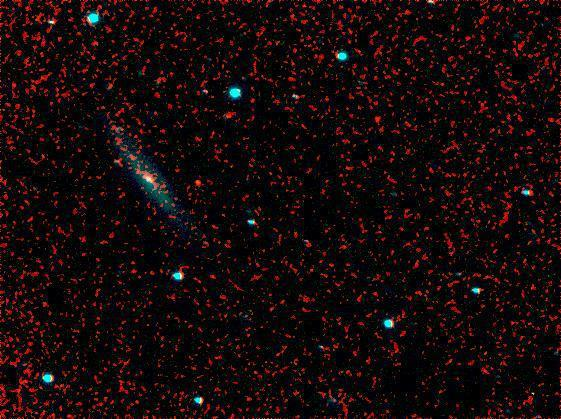star: (185, 168, 215, 198)
